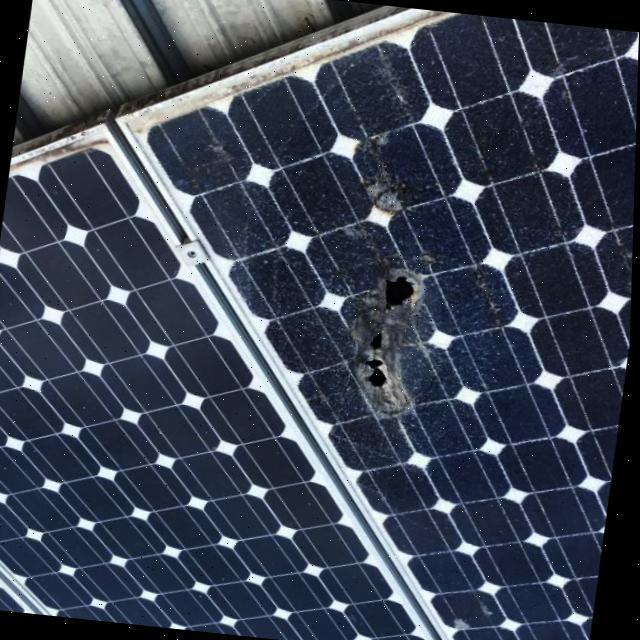Anomaly Solar Panel: (132, 11, 639, 640)
Normal Solar Panel: (0, 145, 434, 640), (0, 574, 41, 614)
Structural Damage: (329, 258, 436, 430), (334, 124, 421, 231), (458, 268, 518, 340), (604, 217, 635, 300)
